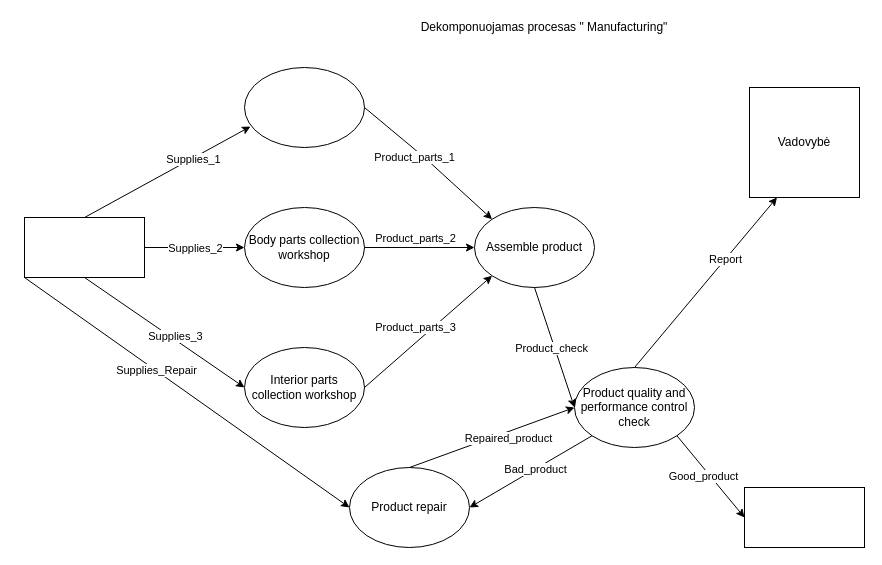
Image size: 882x565. Some labels were removed from this diagram. The box of each missing label's shape, as (x1, y1, x2, y2) in pixels:
Chassis collection workshop: (244, 66, 364, 148)
product werehouse: (744, 486, 864, 548)
Supplies werehouse: (24, 216, 144, 278)
